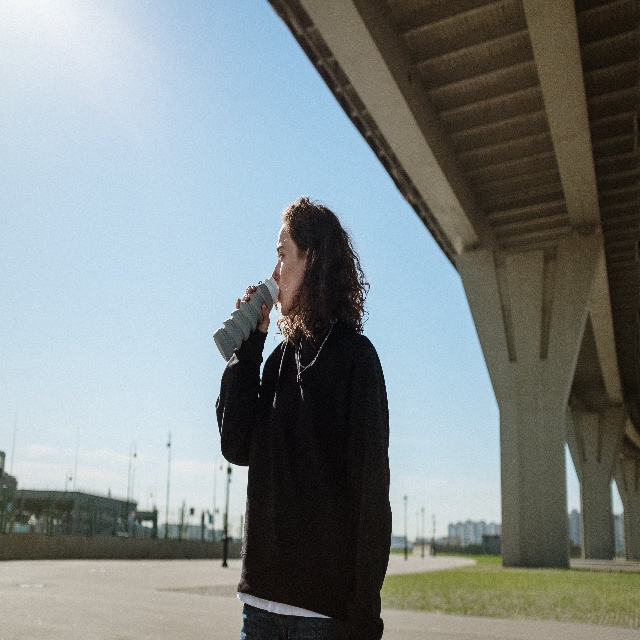Sin_guantes: (236, 285, 270, 332)
